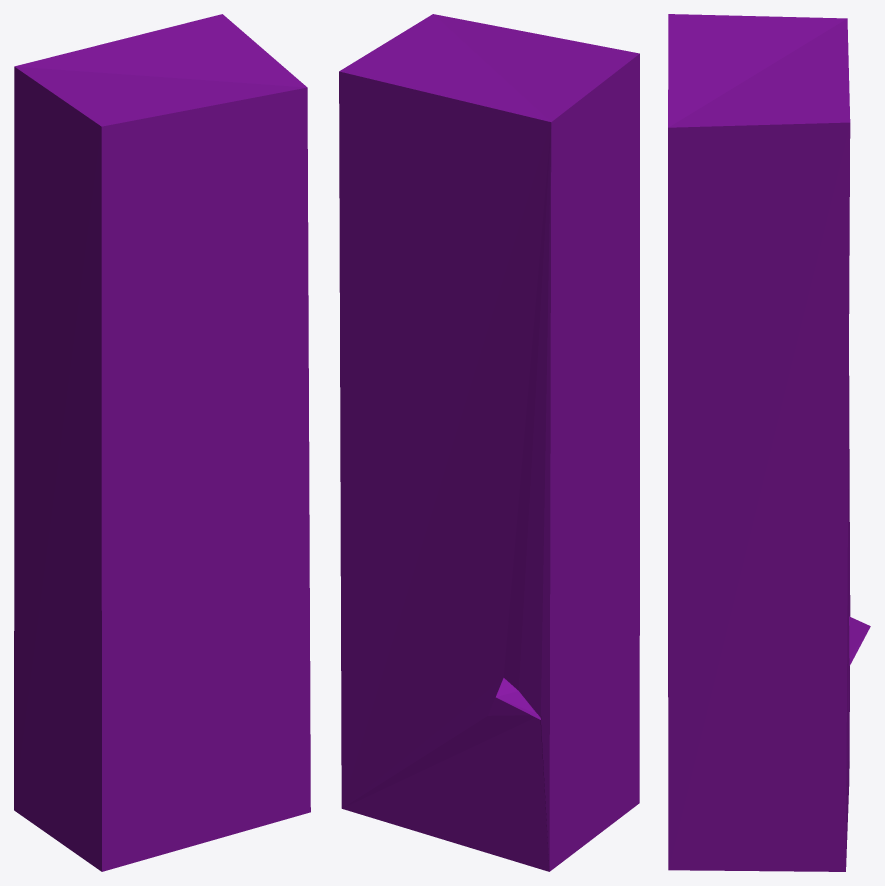
The picture shows the model from 3 angles, left to right: view 1: azimuth 30°, elevation 25°; view 2: azimuth 150°, elevation 25°; view 3: azimuth 270°, elevation 25°; orthographic projection. The views are drawn at different scales.
Visible parts, largest first — view 1: 166_Cube.693; view 2: 166_Cube.693; view 3: 166_Cube.693.
Boxes of the visible parts, x1=… form: 166_Cube.693: x1=14, y1=14, x2=310, y2=871; 166_Cube.693: x1=339, y1=14, x2=639, y2=871; 166_Cube.693: x1=668, y1=14, x2=870, y2=871.
Bounding box in the file's own units: 3.58 × 12.2 × 2.93.
